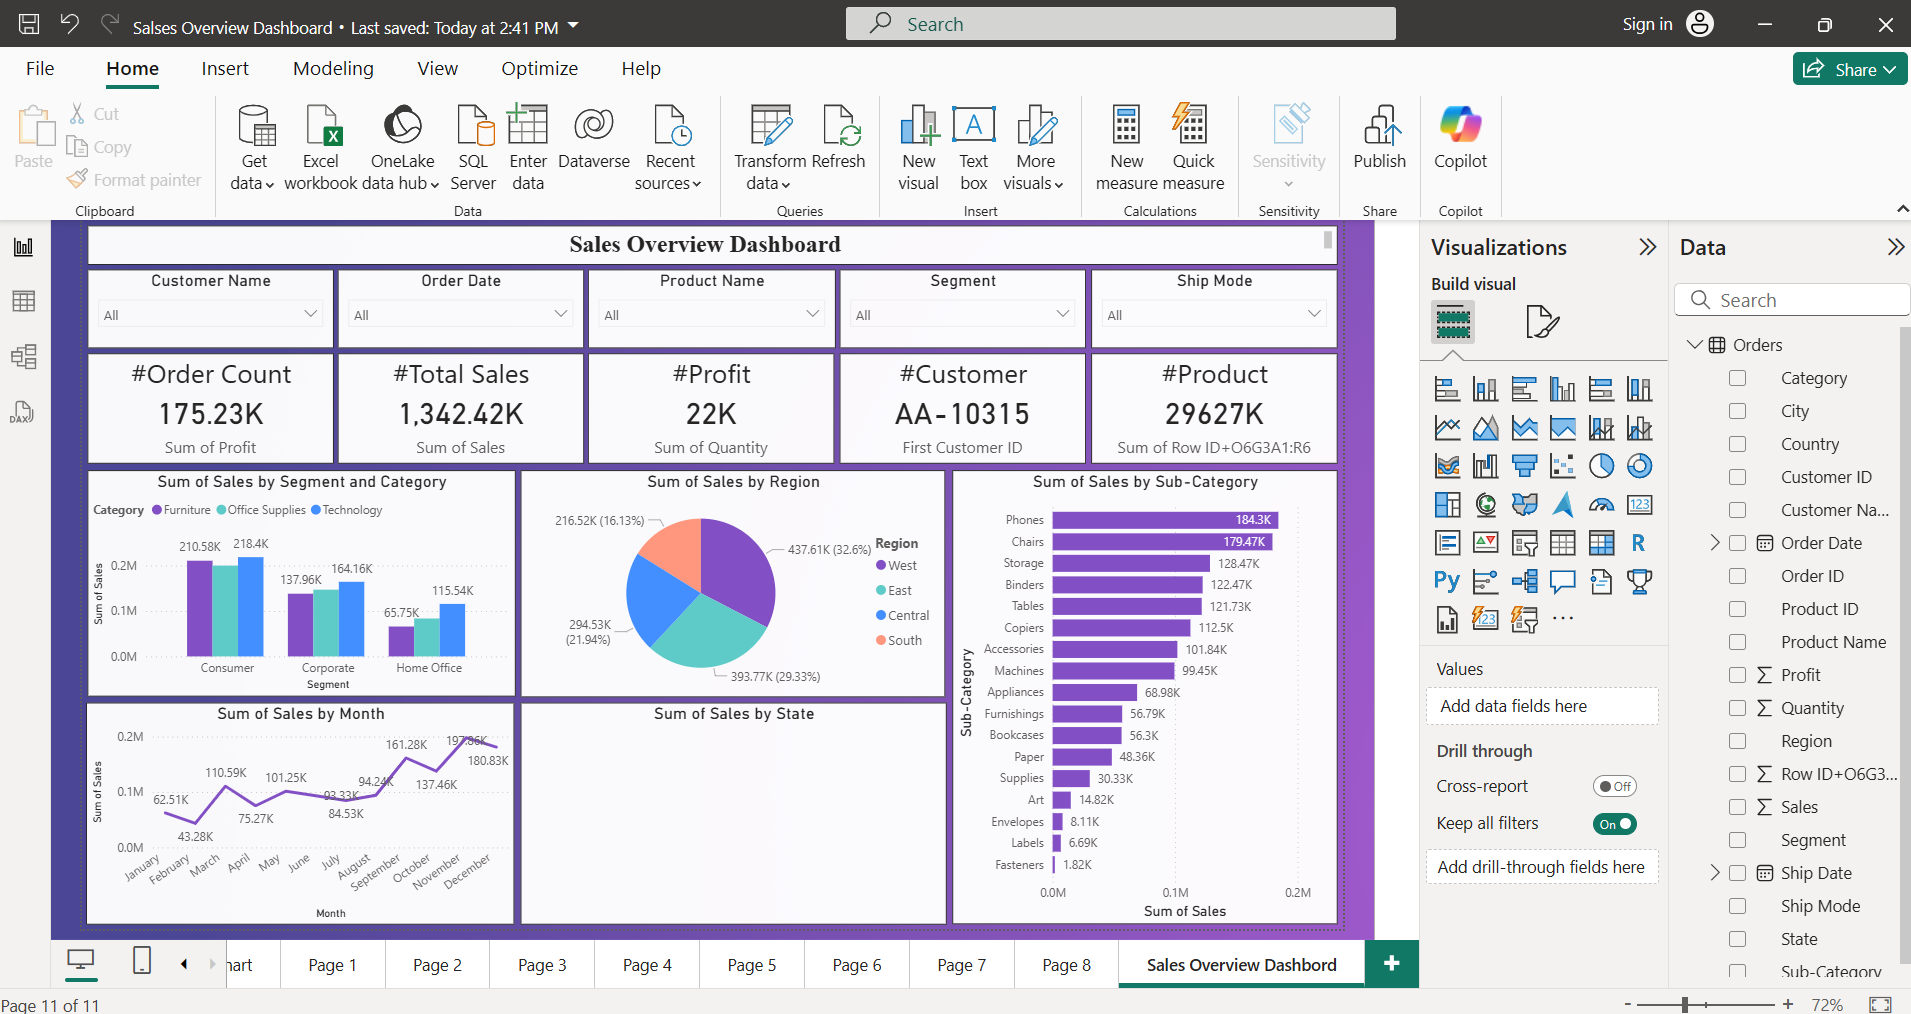

This screenshot's page, from the dashboard's own definition file:
{"tool":"powerbi","page":{"name":"Sales Overview Dashbord","canvas":[1280,720],"ordinal":10},"visuals":[{"type":"textbox","box":[5.7,5.7,1270,40],"z":0},{"type":"slicer","title":"Customer Name","fields":{"Values":["Orders.Order ID"]},"box":[5,50,250,80],"z":1000},{"type":"slicer","title":"Order Date","fields":{"Values":["Orders.Order ID"]},"box":[260,50,250,80],"z":2000},{"type":"slicer","title":"Product Name","fields":{"Values":["Orders.Order ID"]},"box":[514.3,50,251.4,80],"z":3000},{"type":"slicer","title":"Segment","fields":{"Values":["Orders.Order ID"]},"box":[770,50,250,80],"z":4000},{"type":"slicer","title":"Ship Mode","fields":{"Values":["Orders.Order ID"]},"box":[1025,50,250,80],"z":5000},{"type":"card","title":"#Order Count","fields":{"Values":["Orders.Profit"]},"box":[5.6,135.5,250,111.7],"z":6000},{"type":"card","title":"#Total Sales","fields":{"Values":["Orders.Sales"]},"box":[259.8,135,250,111.7],"z":7000},{"type":"card","title":"#Profit ","fields":{"Values":["Orders.Quantity"]},"box":[514,135,250,111.7],"z":8000},{"type":"card","title":"#Customer ","fields":{"Values":["Orders.Customer ID"]},"box":[769.5,135,250,111.7],"z":9000},{"type":"card","title":"#Product ","fields":{"Values":["Orders.Row ID+O6G3A1:R6"]},"box":[1025.1,135,250,111.7],"z":10000},{"type":"clusteredColumnChart","fields":{"Category":["Orders.Segment"],"Y":["Orders.Sales"],"Series":["Orders.Category"]},"box":[5.6,254.2,435,230],"z":11000},{"type":"pieChart","fields":{"Category":["Orders.Region"],"Y":["Orders.Sales"]},"box":[446,254,431.6,230.4],"z":12000},{"type":"barChart","fields":{"Category":["Orders.Sub-Category"],"Y":["Orders.Sales"]},"box":[884.3,254.3,391.4,461.4],"z":13000},{"type":"lineChart","fields":{"Y":["Orders.Sales"],"Category":["Orders.Order Date.Variation.Date Hierarchy.Month"]},"box":[4.8,490,435.2,225.6],"z":14000},{"type":"map","fields":{"Category":["Orders.State"],"Size":["Orders.Sales"]},"box":[445.7,490,432.9,225.7],"z":15000}]}

Visuals, with their boxes on the page's 1280x720 design canvas (x1, y1, x2, y2). These are canvas units, not pixel positions in the 1911x1014 screenshot, which may show the page scaled, cropped or inside an application window:
textbox: <bbox>6, 6, 1276, 46</bbox>
"Customer Name" slicer: <bbox>5, 50, 255, 130</bbox>
"Order Date" slicer: <bbox>260, 50, 510, 130</bbox>
"Product Name" slicer: <bbox>514, 50, 766, 130</bbox>
"Segment" slicer: <bbox>770, 50, 1020, 130</bbox>
"Ship Mode" slicer: <bbox>1025, 50, 1275, 130</bbox>
"#Order Count" card: <bbox>6, 136, 256, 247</bbox>
"#Total Sales" card: <bbox>260, 135, 510, 247</bbox>
"#Profit " card: <bbox>514, 135, 764, 247</bbox>
"#Customer " card: <bbox>770, 135, 1020, 247</bbox>
"#Product " card: <bbox>1025, 135, 1275, 247</bbox>
clusteredColumnChart - Orders.Segment x Orders.Sales: <bbox>6, 254, 441, 484</bbox>
pieChart - Orders.Region x Orders.Sales: <bbox>446, 254, 878, 484</bbox>
barChart - Orders.Sub-Category x Orders.Sales: <bbox>884, 254, 1276, 716</bbox>
lineChart - Orders.Sales x Orders.Order Date.Variation.Date Hierarchy.Month: <bbox>5, 490, 440, 716</bbox>
map - Orders.State x Orders.Sales: <bbox>446, 490, 879, 716</bbox>
